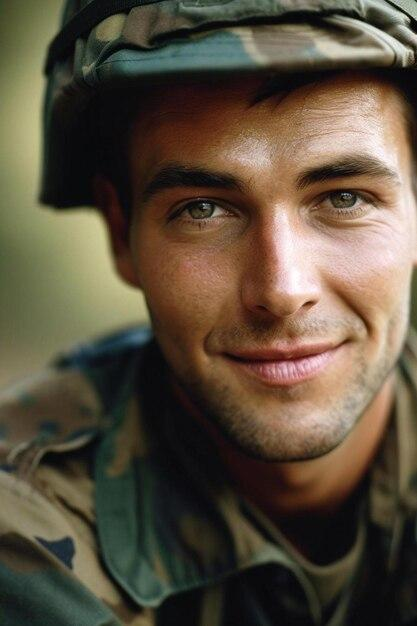cap: (23, 0, 417, 148)
